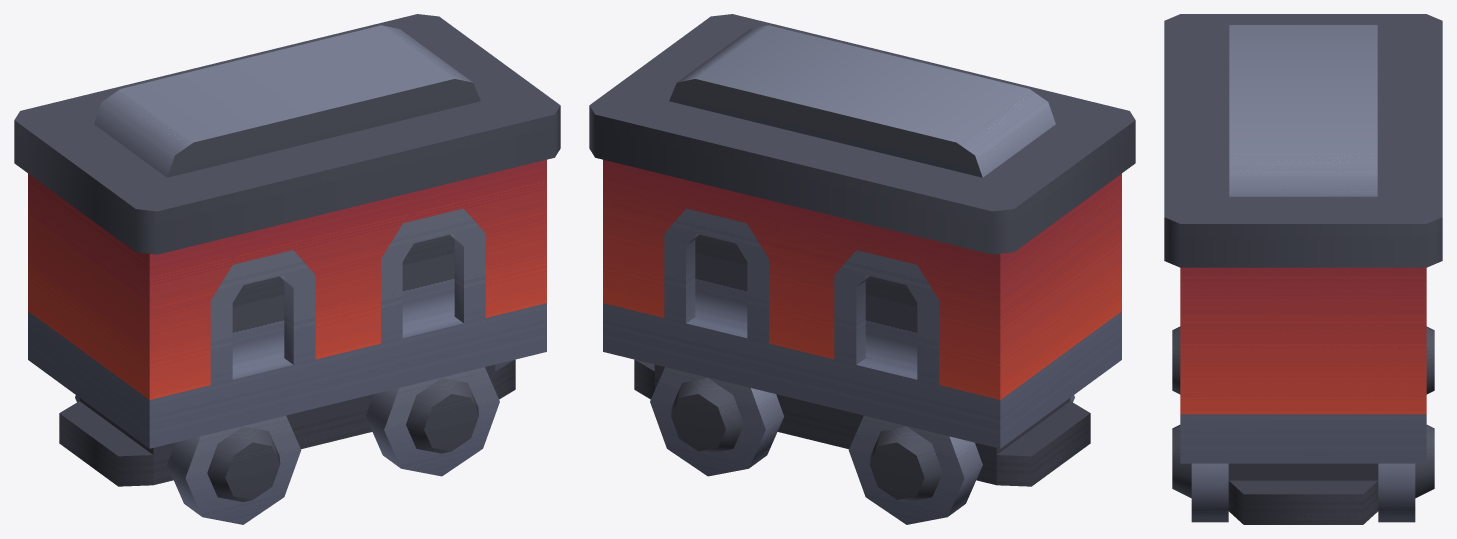
File: train-wagon-short.glb
The picture shows the model from 3 angles, left to right: view 1: azimuth 30°, elevation 25°; view 2: azimuth 150°, elevation 25°; view 3: azimuth 270°, elevation 25°; orthographic projection.
Visible parts, largest first — view 1: train-wagon-short; view 2: train-wagon-short; view 3: train-wagon-short.
Part boxes in pixels (left/top/right/bottom): train-wagon-short: left=14, top=14, right=560, bottom=524; train-wagon-short: left=589, top=14, right=1135, bottom=524; train-wagon-short: left=1164, top=14, right=1442, bottom=524.
Bounding box in the file's own units: 1.11 × 0.9389 × 0.621.
1 material, 1 textured.
